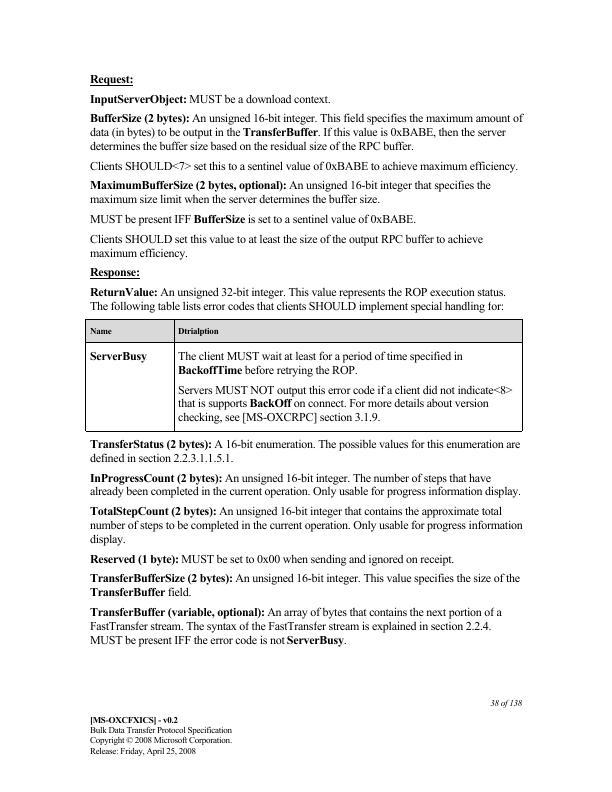table: (81, 316, 526, 436)
text: (90, 505, 526, 548), (88, 111, 528, 152), (86, 606, 505, 649), (88, 470, 525, 501), (87, 176, 493, 206), (87, 437, 522, 465), (87, 232, 484, 262), (87, 572, 521, 598), (88, 287, 509, 313), (88, 712, 235, 760), (87, 158, 520, 174), (87, 551, 459, 568), (86, 213, 422, 227), (87, 92, 332, 107), (88, 265, 143, 281), (484, 695, 526, 713), (87, 71, 135, 86)
